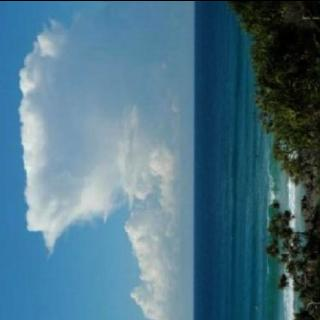Cumulonimbus: (0, 0, 194, 320)
